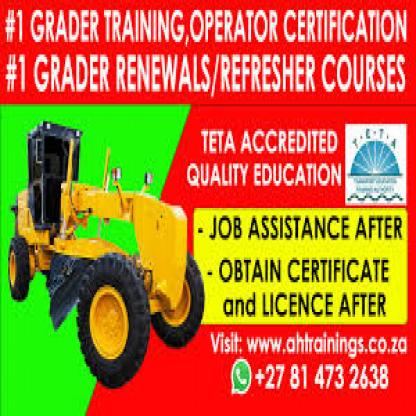bull_dozer/loader/grader: (1, 116, 212, 379)
